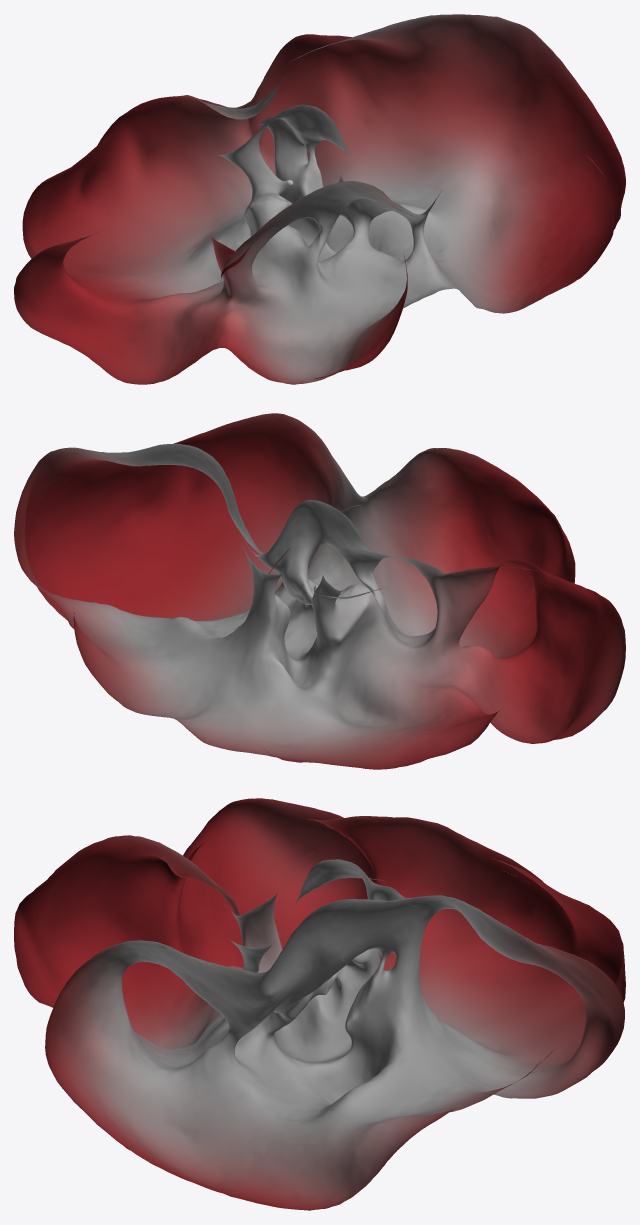
File: Cloud_central_pillars.glb
3 views of the same model, one above another, from view 1: azimuth 30°, elevation 25°; view 2: azimuth 150°, elevation 25°; view 3: azimuth 270°, elevation 25° (orthographic). The views are drawn at different scales.
Parts seen in each view (by area): view 1: Mesh; view 2: Mesh; view 3: Mesh.
Part boxes in pixels (x1,y1,x2,y2): Mesh: [14, 14, 625, 384]; Mesh: [14, 413, 625, 769]; Mesh: [14, 798, 625, 1210].
Size of the model in its own units: 95.12 by 37.54 by 74.62.
